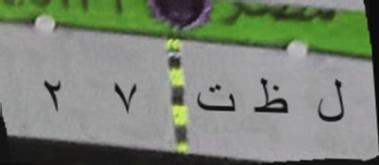2: (36, 74, 69, 117)
7: (109, 73, 144, 122)
Thaa: (247, 76, 290, 124)
laam: (308, 74, 350, 130)
taa: (192, 80, 236, 122)
